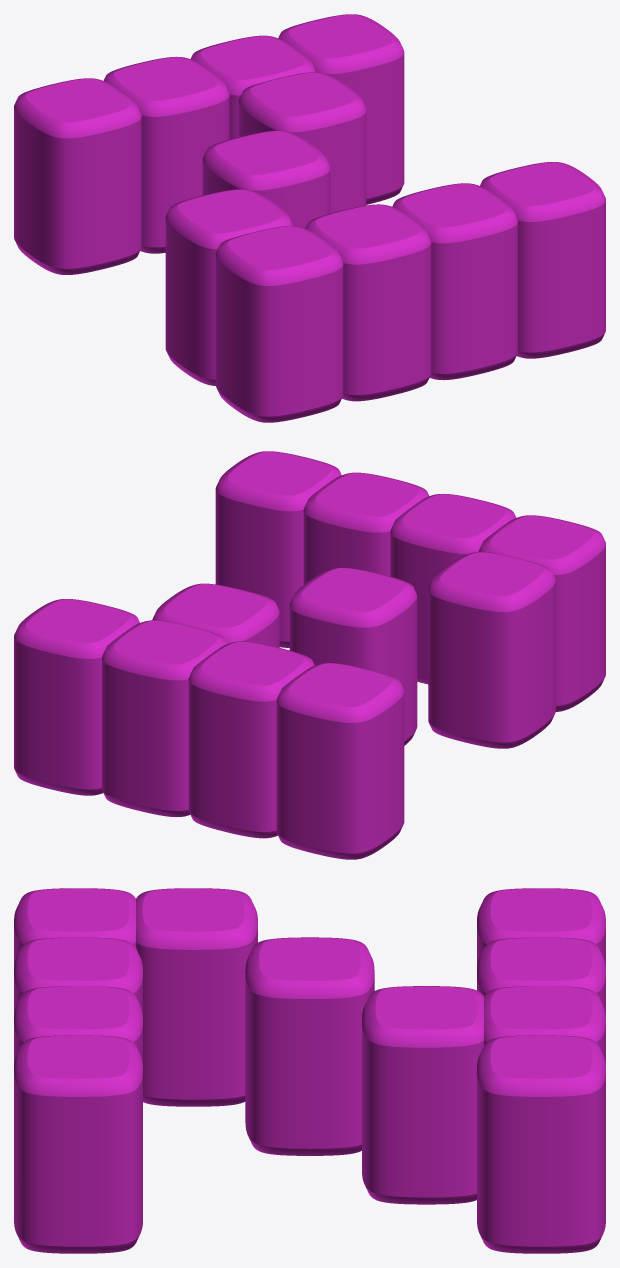
File: Letter_z_Small.fbx
The picture shows the model from 3 angles, top to bottom: view 1: azimuth 30°, elevation 25°; view 2: azimuth 150°, elevation 25°; view 3: azimuth 270°, elevation 25°; orthographic projection. The views are drawn at different scales.
Visible parts, largest first — view 1: Letter_z; view 2: Letter_z; view 3: Letter_z.
Boxes of the visible parts, x1,y1,x2,y2 form: Letter_z: (14,14,605,422); Letter_z: (14,451,605,859); Letter_z: (14,888,605,1253).
Bounding box in the file's own units: 0.3465 × 0.14 × 0.43.
